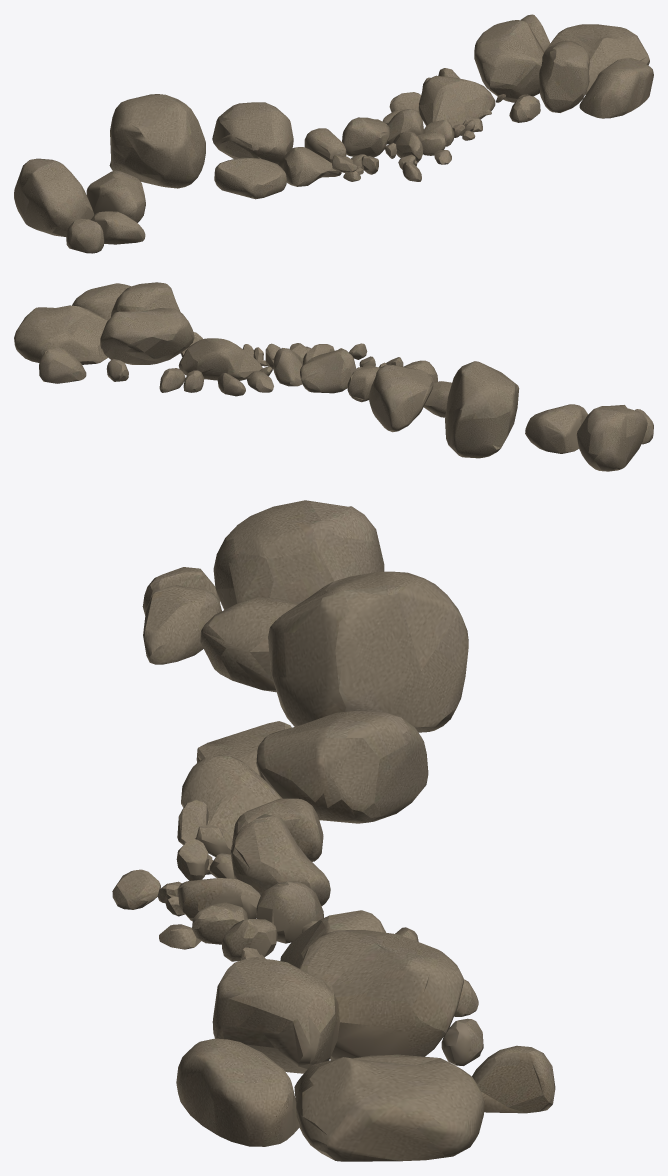
File: p_cliff.glb
3 views of the same model, one above another, from view 1: azimuth 30°, elevation 25°; view 2: azimuth 150°, elevation 25°; view 3: azimuth 270°, elevation 25° (orthographic). The views are drawn at different scales.
Size of the model in its own units: 1.9 by 0.2341 by 0.6219.
Materials: 1 (1 with a texture image).
